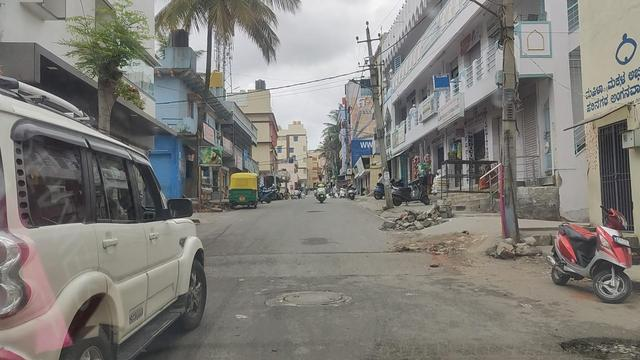RoadDamages: (561, 334, 640, 360), (275, 290, 350, 313)
